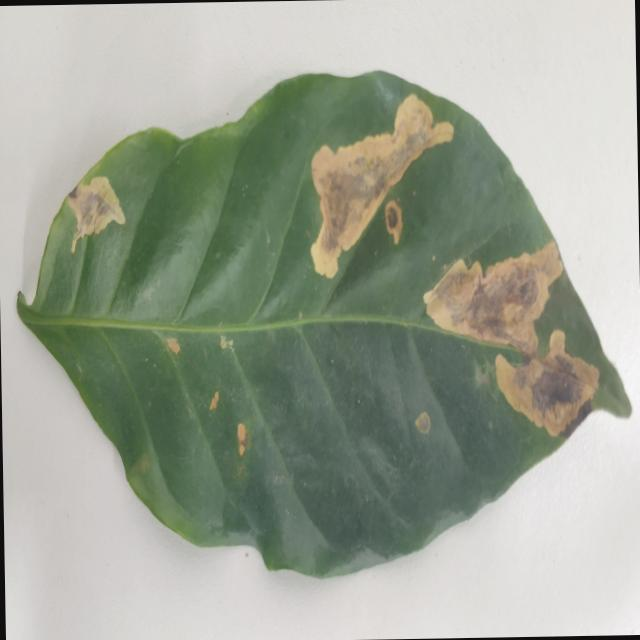KaratDaunKopi: (310, 94, 453, 278), (423, 243, 562, 355), (495, 330, 599, 435), (67, 176, 125, 253), (384, 200, 402, 244), (237, 423, 248, 456), (414, 412, 430, 433), (167, 338, 180, 354), (220, 335, 233, 349), (209, 392, 218, 410)
